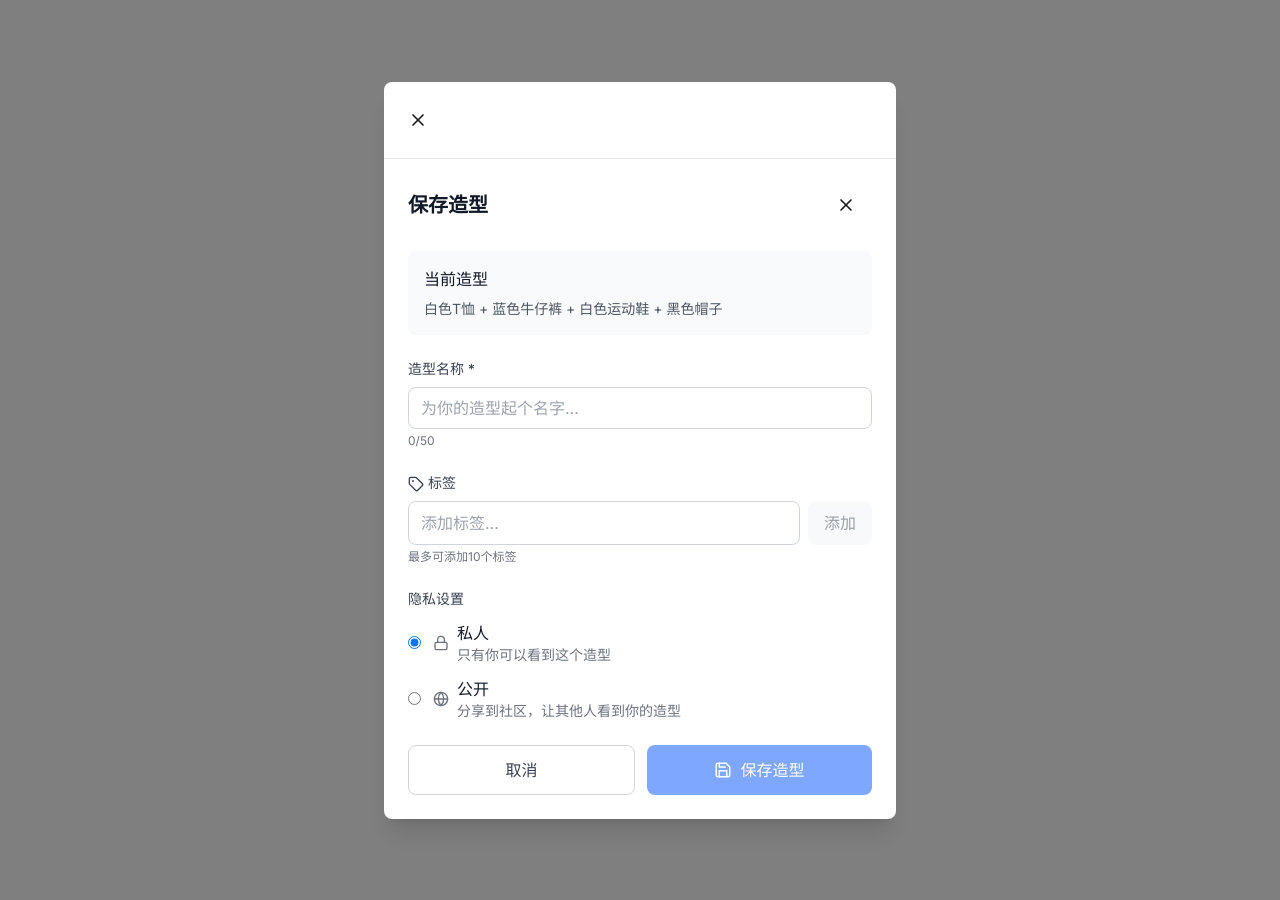
it: 分享功能属性测试 › 分享可访问性 › 应该有清晰的视觉反馈
Expected: the radio button labelled "私人 只有你可以看到这个造型" is checked, [408,636,421,649]
Click the radio button labelled "公开 分享到社区，让其他人看到你的造型" at (414, 698), box [408,692,421,705]
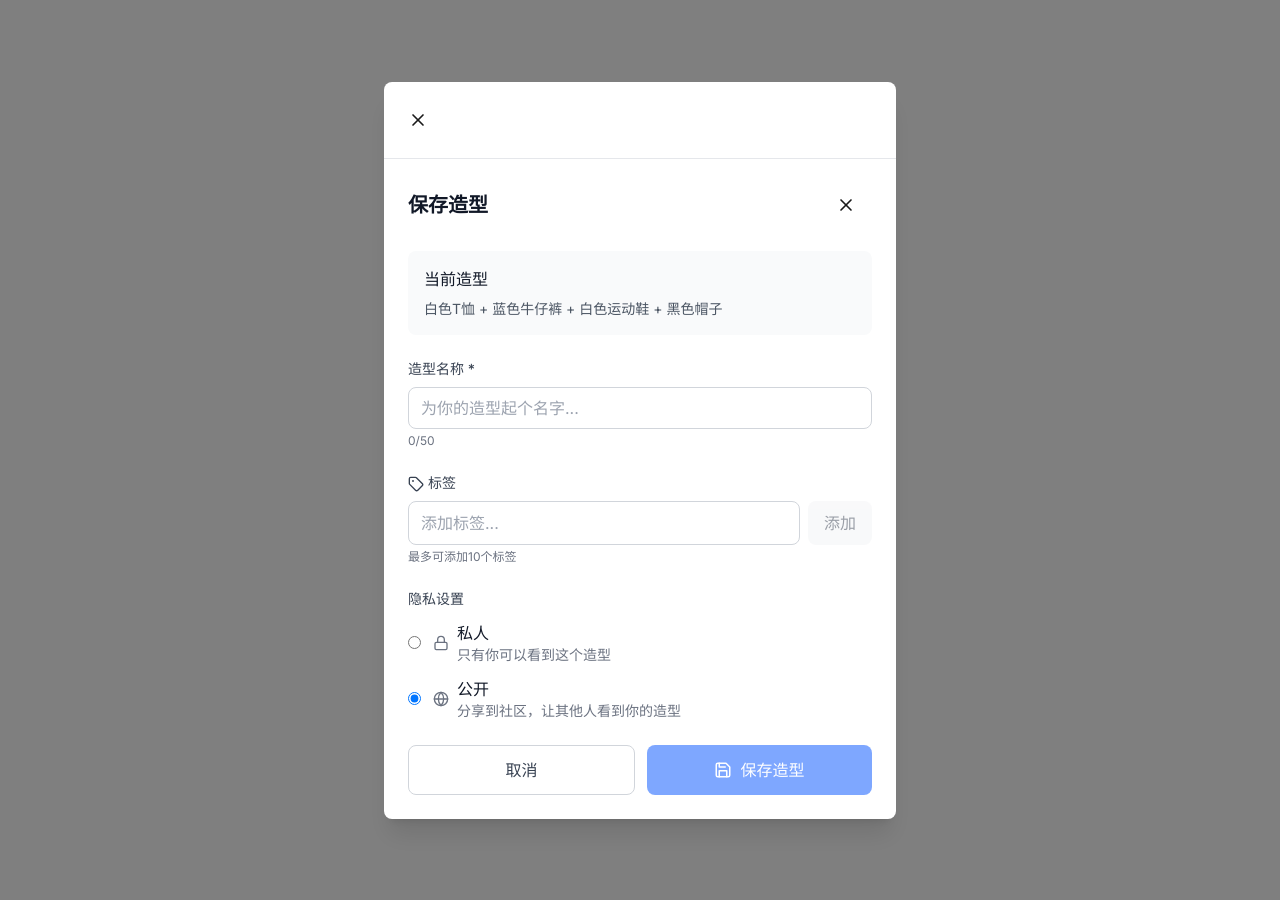
Now the radio button labelled "公开 分享到社区，让其他人看到你的造型" is checked, box [408,692,421,705]
Now the radio button labelled "私人 只有你可以看到这个造型" is not checked, box [408,636,421,649]
